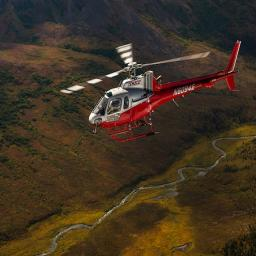helicopter: (62, 41, 243, 143)
